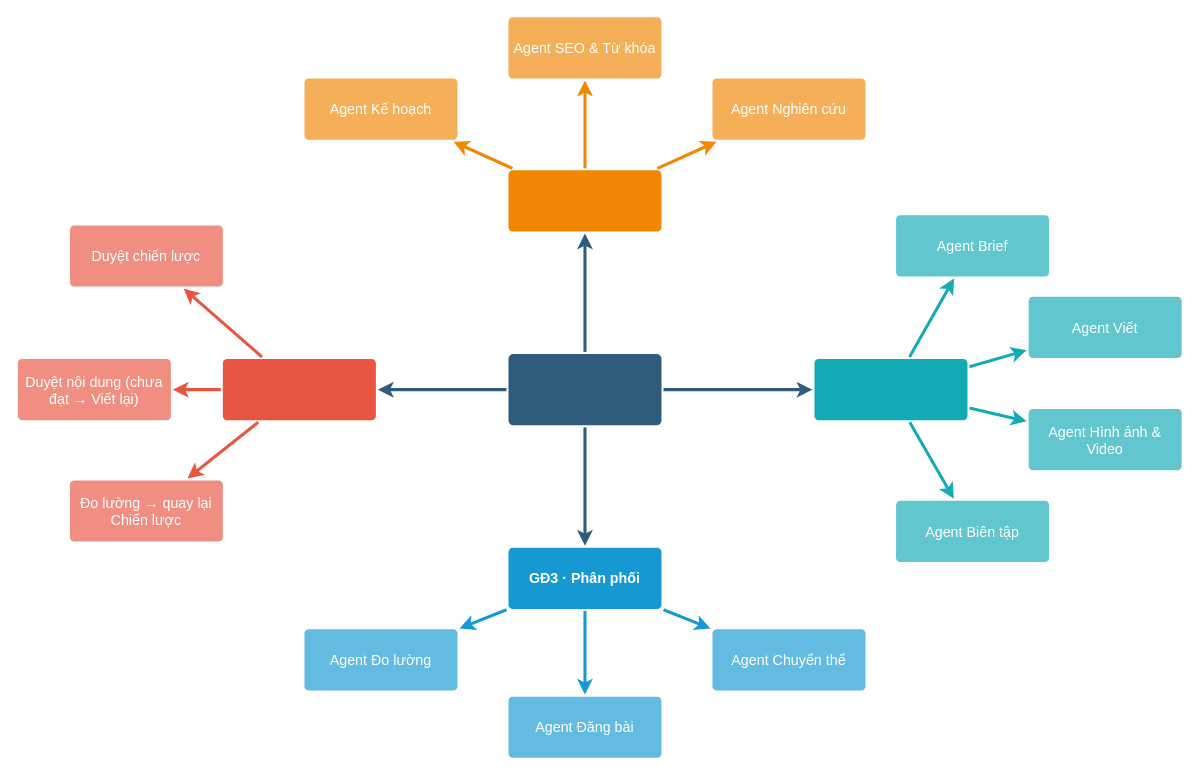
Some shapes in this 1199 by 775 pixel diagram are drawn without their labels. Each missing label, with the centre of its shape:
"Agentic Content" goes at pixel 584 389.
"GĐ1 · Chiến lược" goes at pixel 584 200.
"GĐ2 · Thực thi" goes at pixel 890 389.
"Người duyệt & vòng lặp" goes at pixel 298 389.
